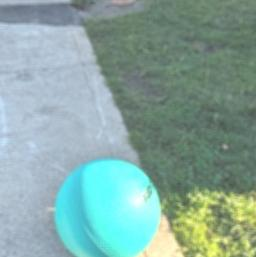algae: (53, 156, 159, 257)
